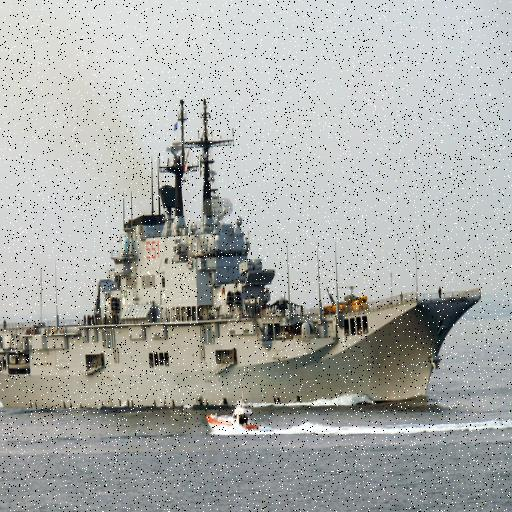Portanaves: (1, 90, 488, 414)
